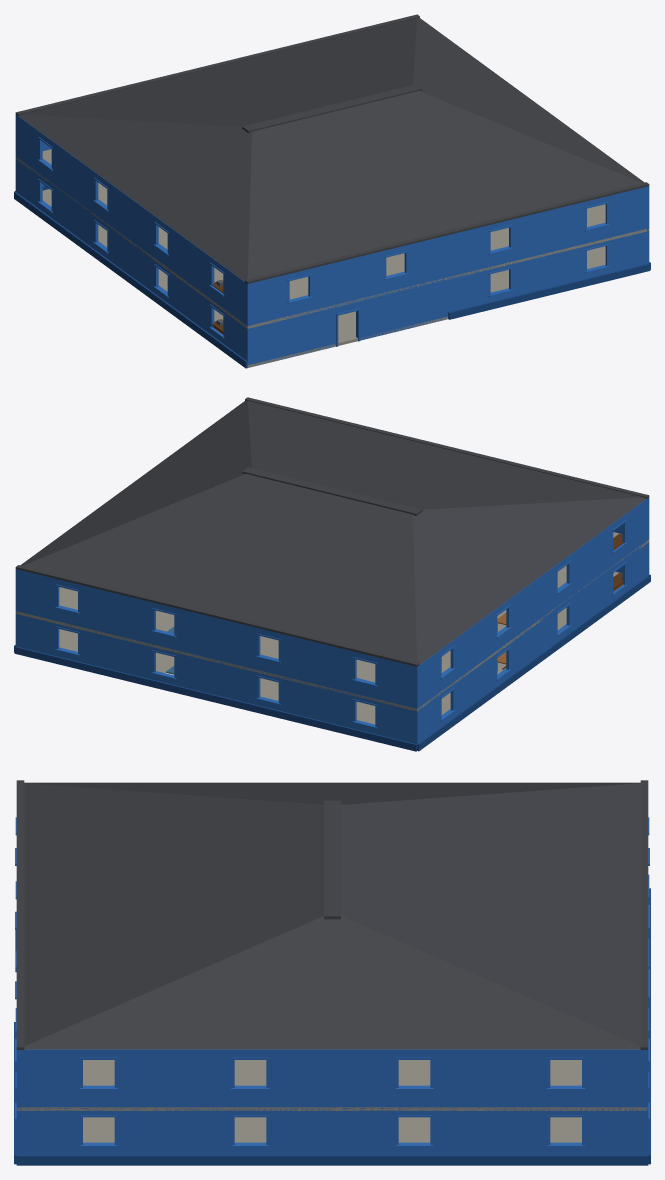
The model's file is house_blue.glb.
3 renders of one model, top to bottom at view 1: azimuth 30°, elevation 25°; view 2: azimuth 150°, elevation 25°; view 3: azimuth 270°, elevation 25°, orthographic. The views are drawn at different scales.
Parts seen in each view (by area): view 1: house_blue; view 2: house_blue; view 3: house_blue.
Part boxes in pixels (bbox=[...]): house_blue: bbox=[14, 14, 650, 368]; house_blue: bbox=[14, 397, 650, 751]; house_blue: bbox=[14, 780, 650, 1165].
Bounding box in the file's own units: 30.26 × 9.04 × 30.26.
